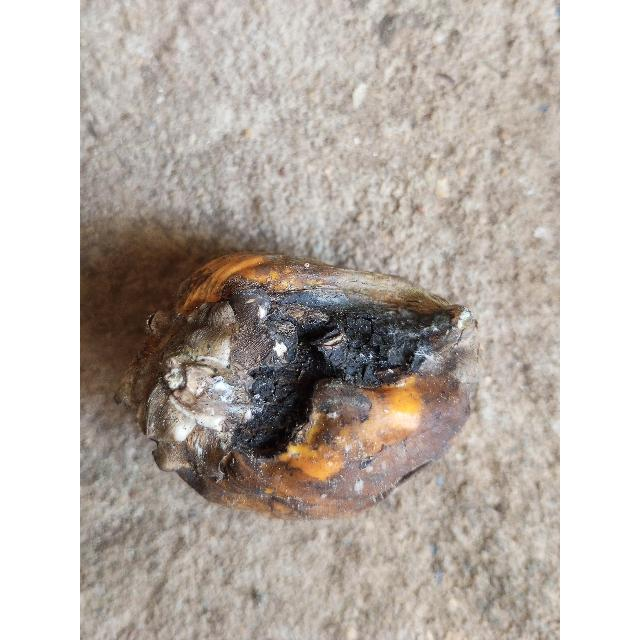damaged: (116, 254, 478, 517)
